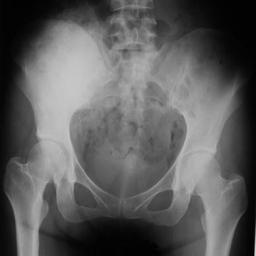cancer: (13, 20, 109, 155)
